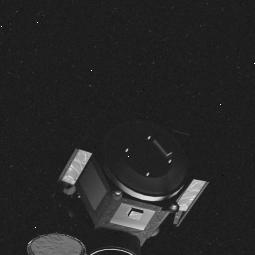cheops: (59, 103, 210, 255)
